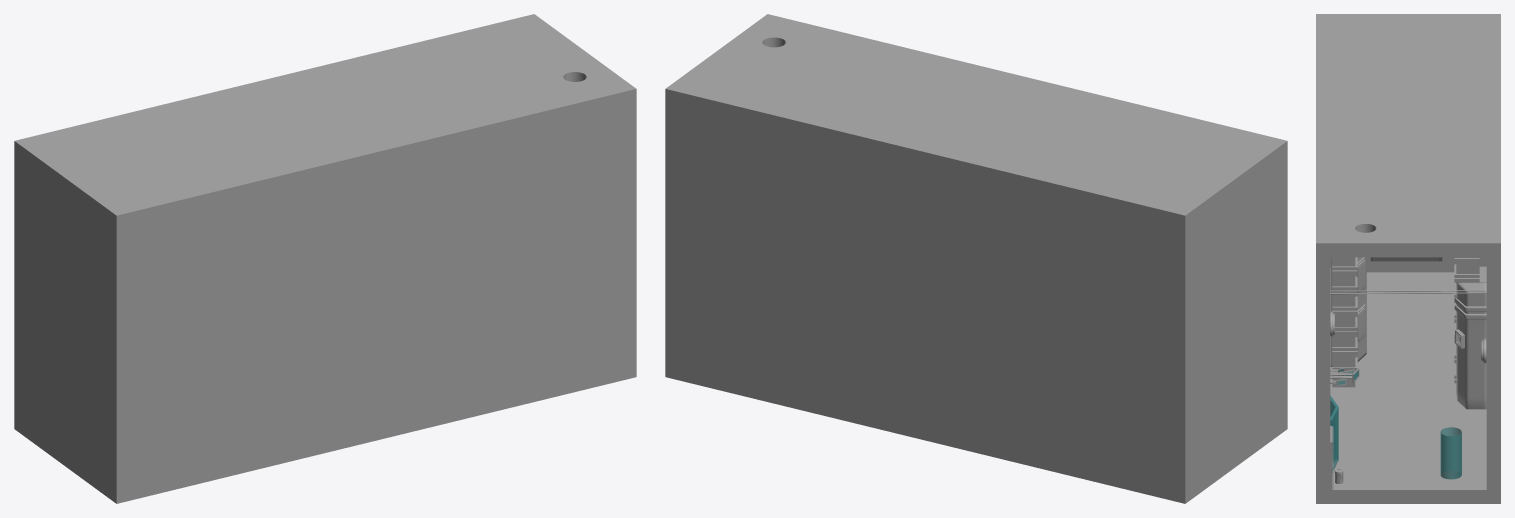
The model's file is StaticObjects.fbx.
3 renders of one model, left to right at view 1: azimuth 30°, elevation 25°; view 2: azimuth 150°, elevation 25°; view 3: azimuth 270°, elevation 25°, orthographic. The views are drawn at different scales.
Parts seen in each view (by area): view 1: Template; view 2: Template; view 3: Template, Building3, Building4, Building1, Portal, Glasspipe, Building2, Glass_Panels, Small_Screens, BigSign, Railing1, Railing2 (+1 smaller).
Boxes of the visible parts, x1,y1,x2,y2 form: Template: [14, 14, 636, 503]; Template: [665, 14, 1287, 503]; Template: [1316, 14, 1500, 503]; Building3: [1454, 282, 1486, 409]; Building4: [1332, 257, 1357, 387]; Building1: [1330, 257, 1366, 366]; Portal: [1366, 257, 1454, 272]; Glasspipe: [1440, 427, 1461, 479]; Building2: [1454, 257, 1479, 394]; Glass_Panels: [1330, 395, 1338, 472]; Small_Screens: [1330, 368, 1359, 385]; BigSign: [1370, 257, 1442, 261]; Railing1: [1330, 290, 1485, 291]; Railing2: [1330, 292, 1485, 294].
Size of the model in its own units: 76.74 by 40.43 by 25.99.
